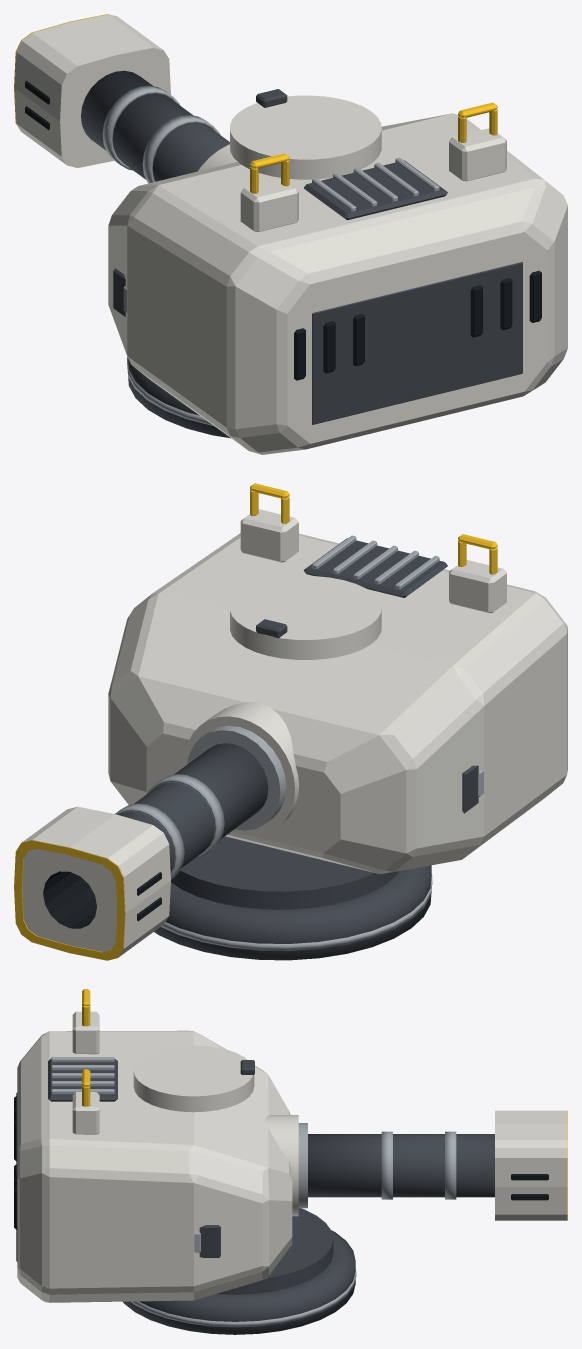
The model's file is cannon.glb.
The picture shows the model from 3 angles, top to bottom: view 1: azimuth 30°, elevation 25°; view 2: azimuth 150°, elevation 25°; view 3: azimuth 270°, elevation 25°; orthographic projection. The views are drawn at different scales.
Parts seen in each view (by area): view 1: CannonModule.006_Body, Barrel.006; view 2: CannonModule.006_Body, Barrel.006; view 3: CannonModule.006_Body, Barrel.006.
Part boxes in pixels (x1,y1,x2,y2): CannonModule.006_Body: (108, 89, 567, 454); Barrel.006: (14, 14, 229, 183); CannonModule.006_Body: (108, 483, 567, 960); Barrel.006: (14, 743, 268, 960); CannonModule.006_Body: (14, 989, 356, 1334); Barrel.006: (308, 1110, 567, 1220).
Bounding box in the file's own units: 1.03 × 0.8827 × 1.75.
